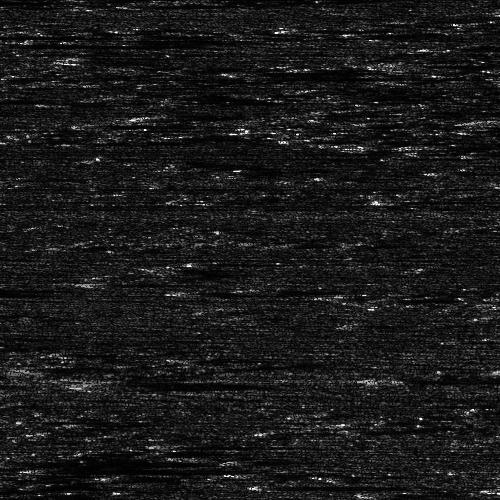object: (309, 57, 454, 70), (392, 288, 500, 305), (123, 374, 196, 387), (0, 38, 43, 47), (349, 375, 402, 382), (460, 64, 500, 73), (0, 455, 38, 464), (230, 484, 283, 489), (469, 73, 500, 78), (8, 466, 39, 471), (0, 28, 11, 41)
shadow: (0, 28, 182, 41), (160, 374, 309, 387), (0, 38, 208, 47), (0, 455, 188, 464), (382, 57, 500, 70), (23, 466, 217, 471), (376, 375, 500, 382), (257, 484, 386, 489), (0, 286, 52, 295), (0, 435, 22, 450), (0, 0, 65, 1)
